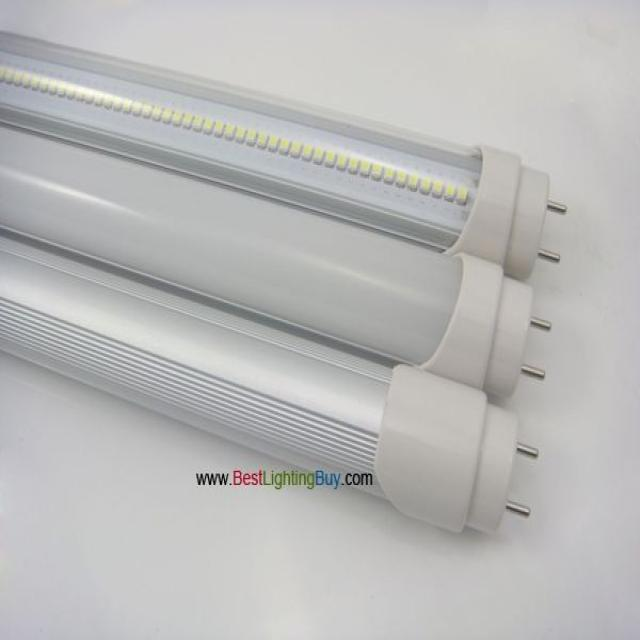tubelight_off: (0, 225, 554, 561), (0, 108, 557, 405), (0, 16, 571, 287)
